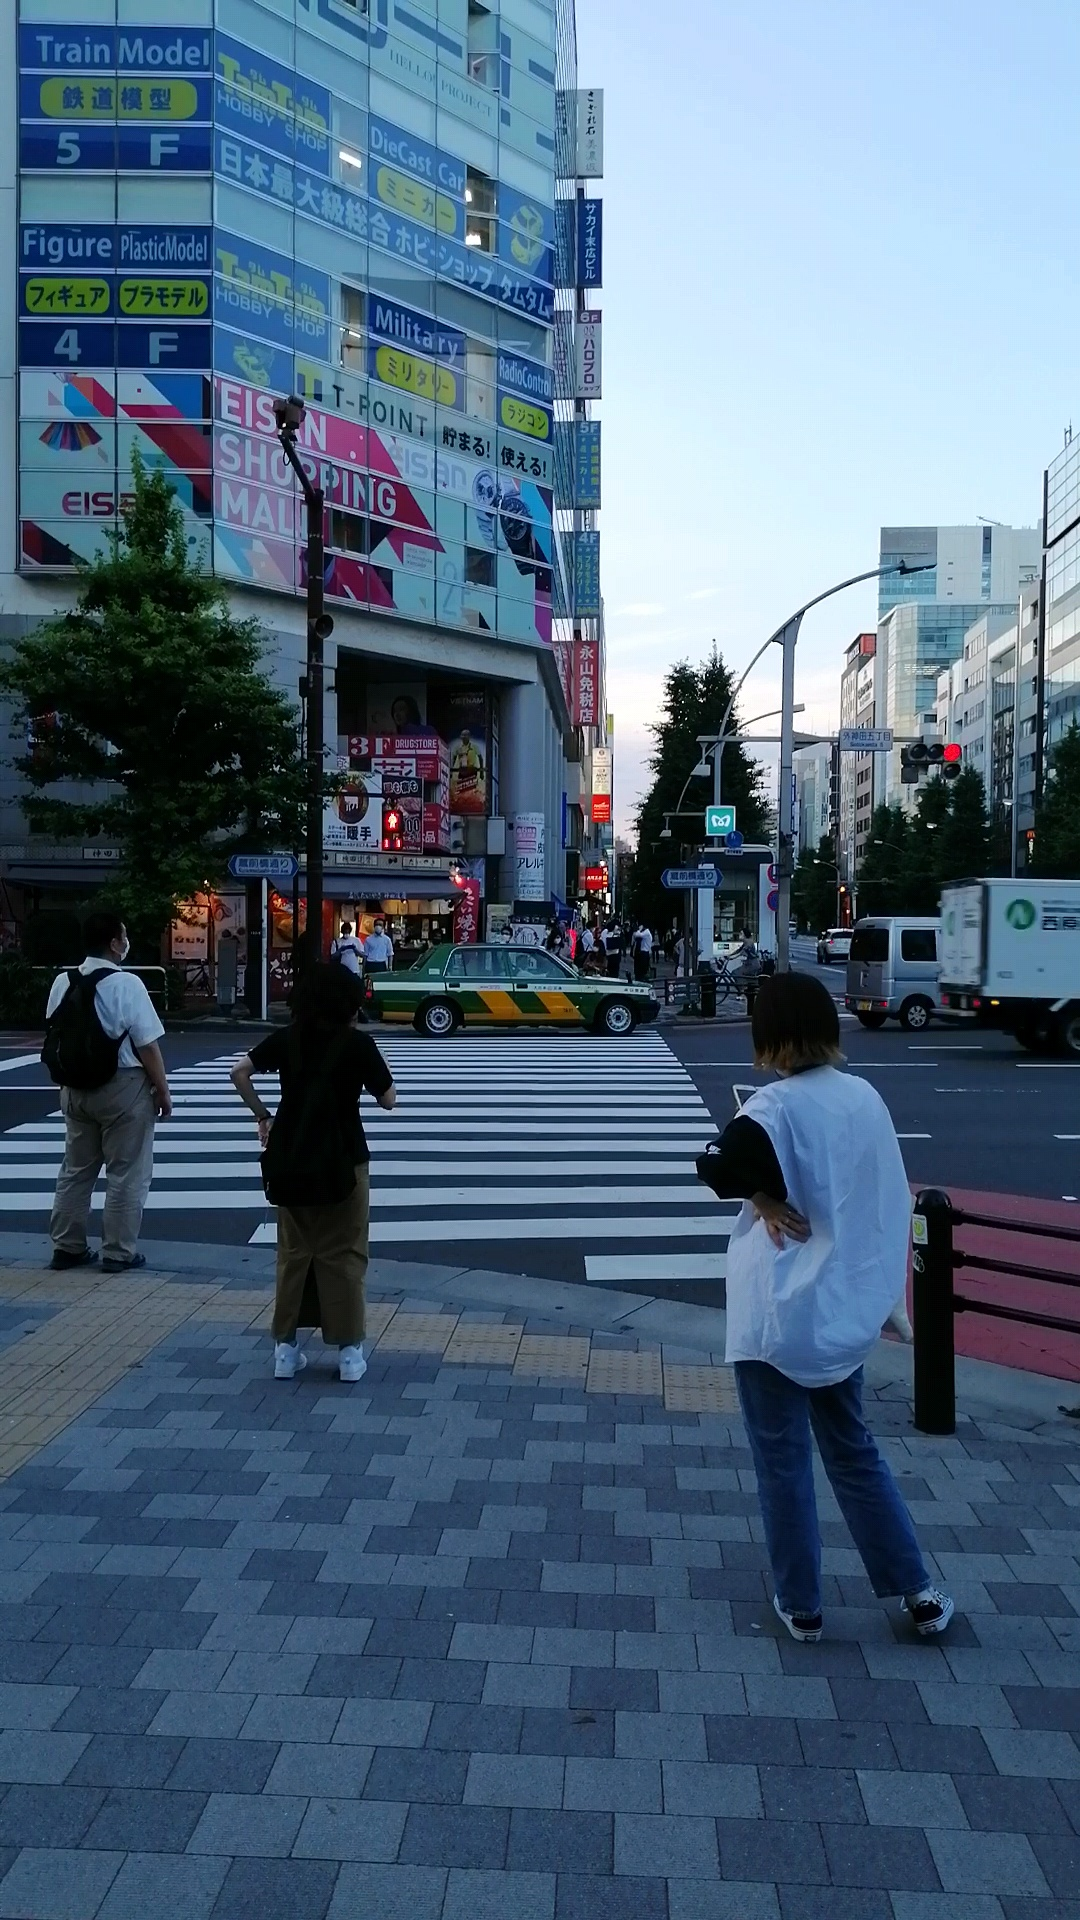red: (380, 806, 404, 855)
